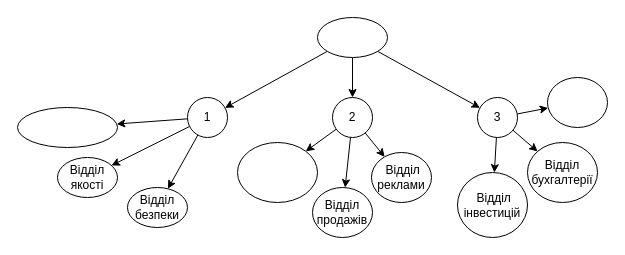
Some shapes in this 625 by 255 pixel diagram are drawn without their labels. The shapes that lost their labels are listed below. From the top down, each one's centre as x and y in pixels, then its label:
At (352,37): "Керівник".
At (577,102): "Відділ фінансів".
At (67,127): "Відділ виробництва".
At (277,172): "Відділ маркетингу".
